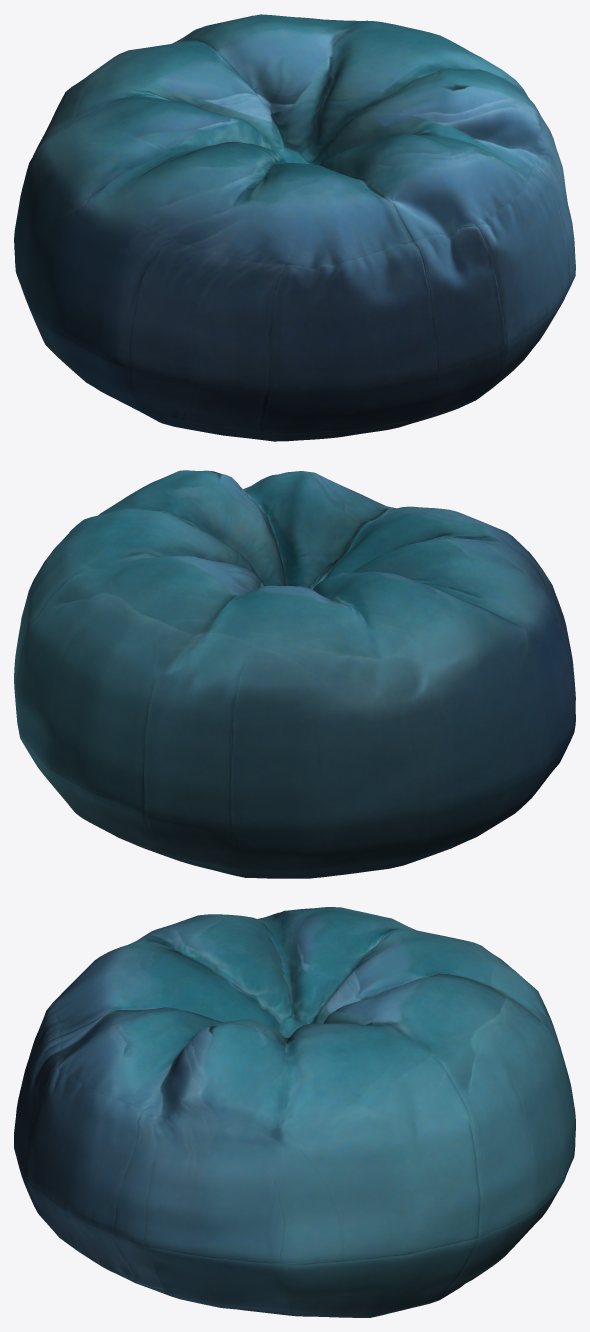
File: furniture_3.glb
3 views of the same model, one above another, from view 1: azimuth 30°, elevation 25°; view 2: azimuth 150°, elevation 25°; view 3: azimuth 270°, elevation 25° (orthographic).
Visible parts, largest first — view 1: Mesh_0; view 2: Mesh_0; view 3: Mesh_0.
Part boxes in pixels (<box>): Mesh_0: <box>14,14,575,441</box>; Mesh_0: <box>14,470,575,878</box>; Mesh_0: <box>14,907,575,1317</box>.
Size of the model in its own units: 0.9968 by 0.5236 by 0.9926.
Materials: 1 (1 with a texture image).
